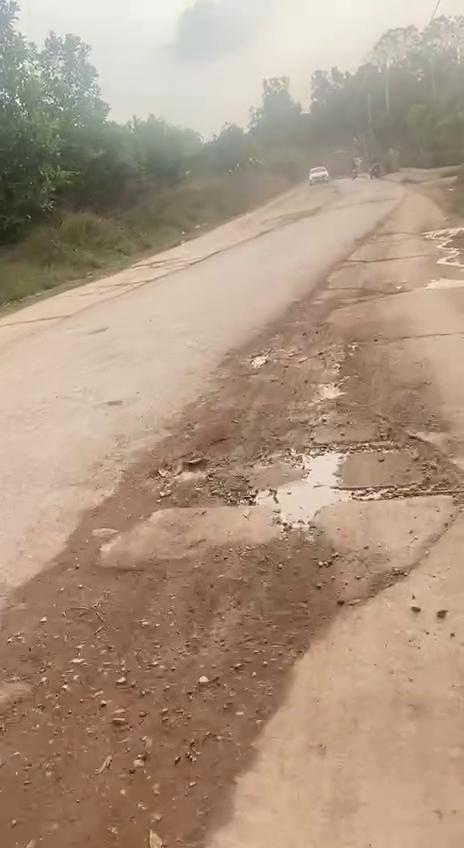pothole: (245, 422, 464, 544)
